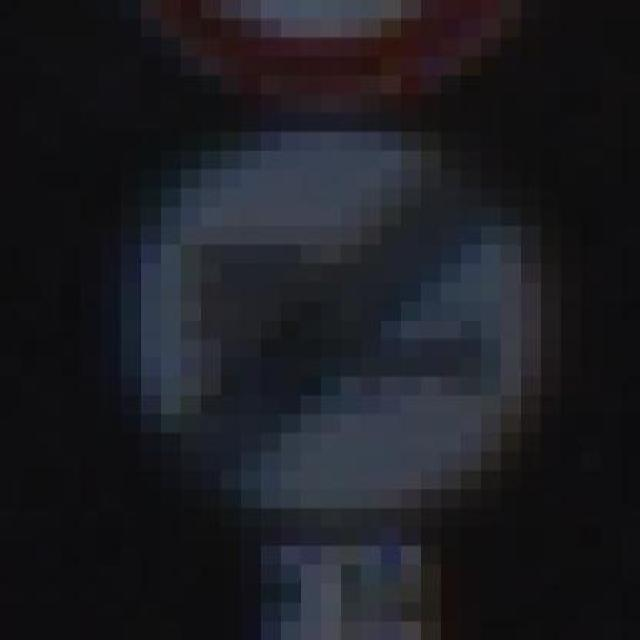Overtaking by trucks is prohibited: (80, 113, 580, 509)
